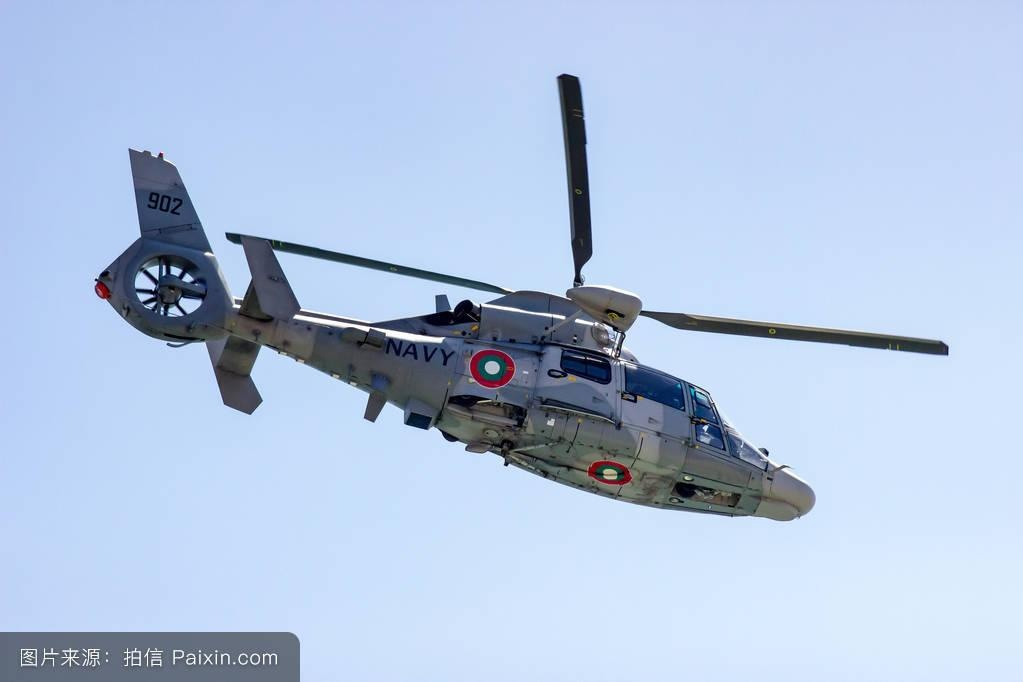airplane: (89, 70, 952, 514)
